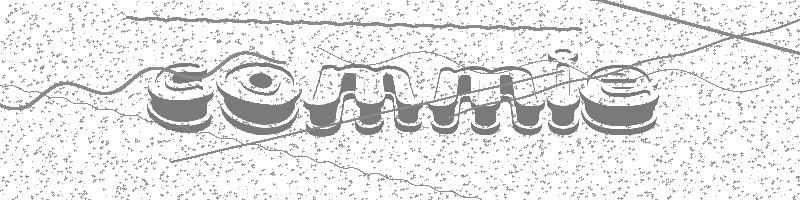c: (145, 60, 213, 135)
e: (577, 62, 657, 135)
i: (545, 46, 582, 138)
m: (303, 61, 425, 137), (426, 61, 543, 137)
o: (216, 59, 303, 135)
